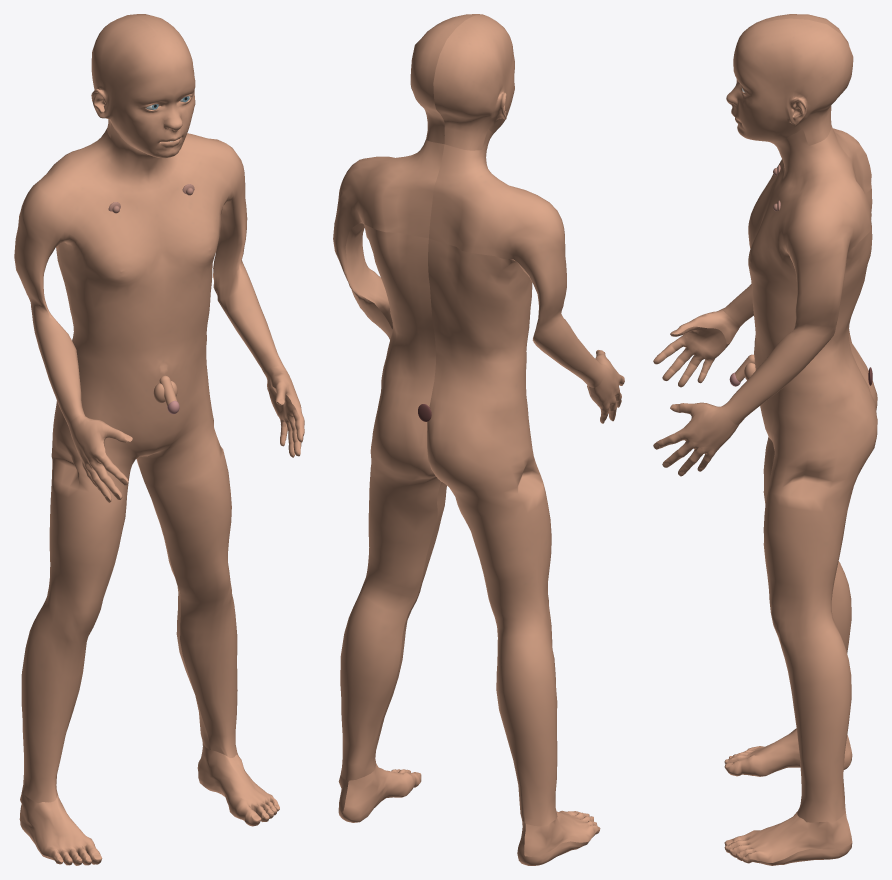
File: body-kind-maennlich-real-v3.glb
The picture shows the model from 3 angles, left to right: view 1: azimuth 30°, elevation 25°; view 2: azimuth 150°, elevation 25°; view 3: azimuth 270°, elevation 25°; orthographic projection.
Parts seen in each view (by area): view 1: real-human-body; view 2: real-human-body; view 3: real-human-body.
Part boxes in pixels (x1,y1,x2,y2): real-human-body: [14, 14, 304, 865]; real-human-body: [333, 14, 624, 865]; real-human-body: [653, 14, 877, 865].
Bounding box in the file's own units: 0.4196 × 1.42 × 0.3629.
Materials: 8 (1 with a texture image).
